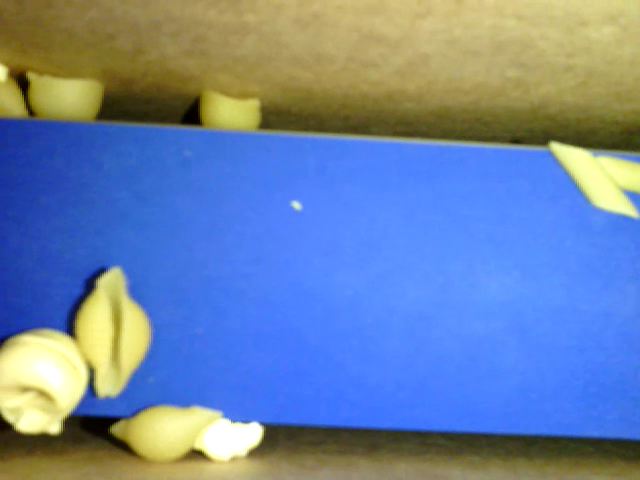penne: (548, 142, 639, 219), (597, 153, 639, 193)
shell: (73, 265, 151, 400), (110, 405, 226, 463), (25, 70, 103, 122), (198, 88, 262, 131)
tortellini: (1, 325, 91, 436)
